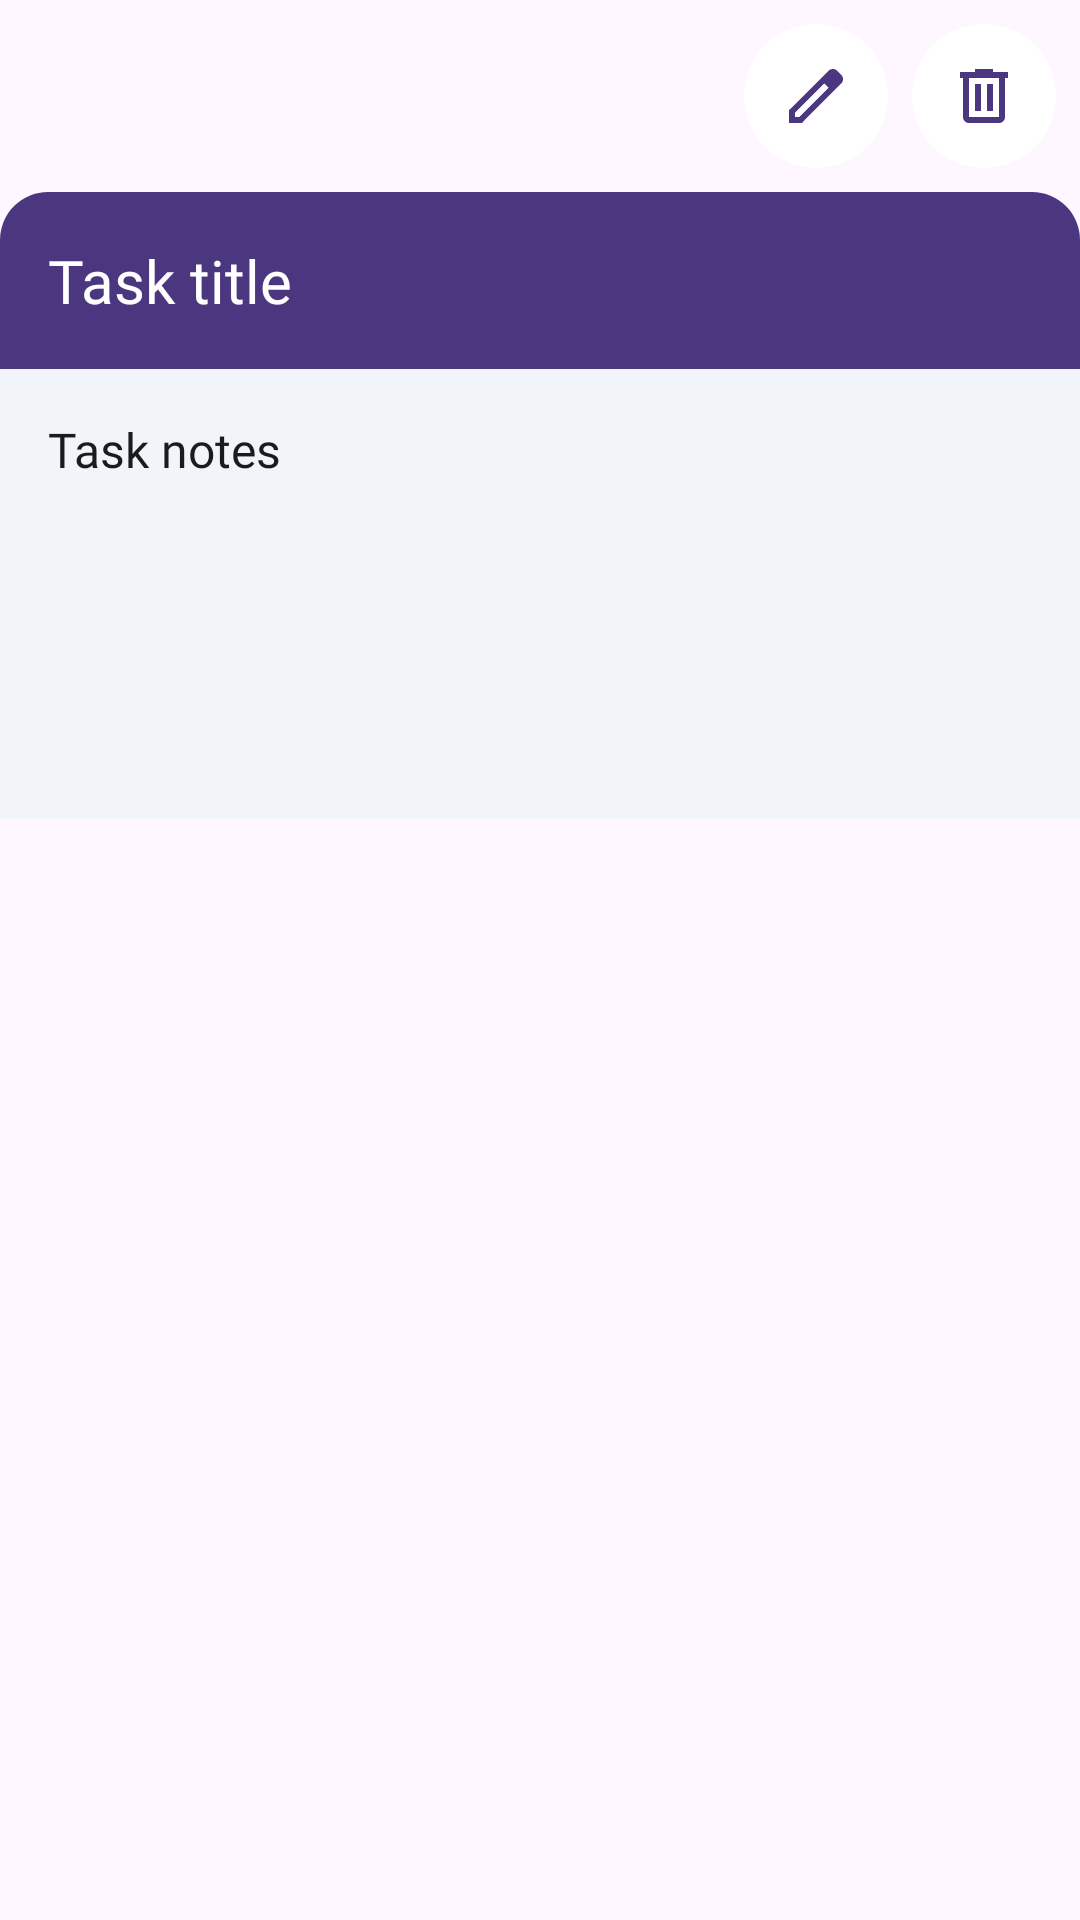

Where icons sit on this 1080px×1920px app screen, as (left=x1, top=y1, right=x2, bottom=y2):
delete: (left=960, top=69, right=1008, bottom=123)
edit: (left=789, top=69, right=843, bottom=123)
